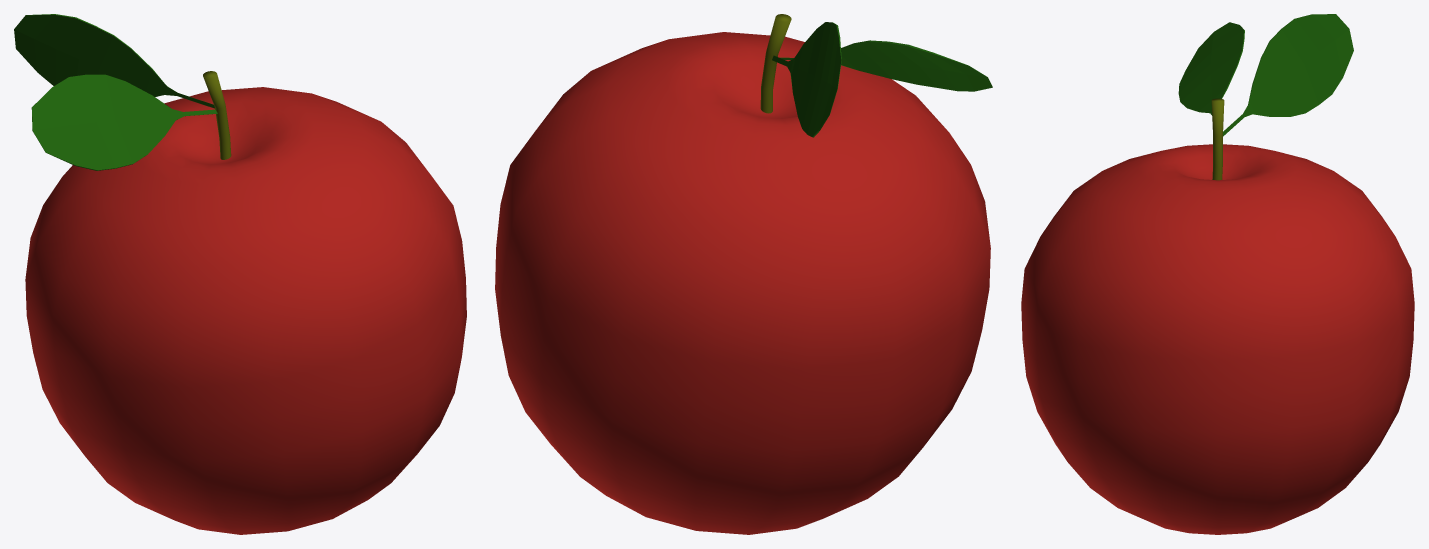
File: Apple.fbx
3 views of the same model, side by side, from view 1: azimuth 30°, elevation 25°; view 2: azimuth 150°, elevation 25°; view 3: azimuth 270°, elevation 25° (orthographic). The views are drawn at different scales.
Parts seen in each view (by area): view 1: Orange; view 2: Orange; view 3: Orange.
Boxes of the visible parts, x1,y1,x2,y2 form: Orange: [14, 14, 466, 534]; Orange: [495, 14, 992, 534]; Orange: [1021, 14, 1414, 534].
Size of the model in its own units: 363 by 416 by 339.
